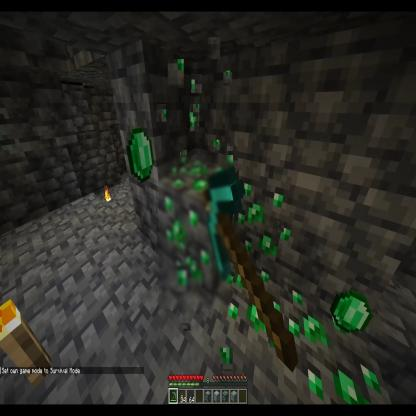emerald ore: (296, 296, 403, 416), (159, 155, 233, 309), (202, 260, 286, 376), (231, 169, 293, 317)
